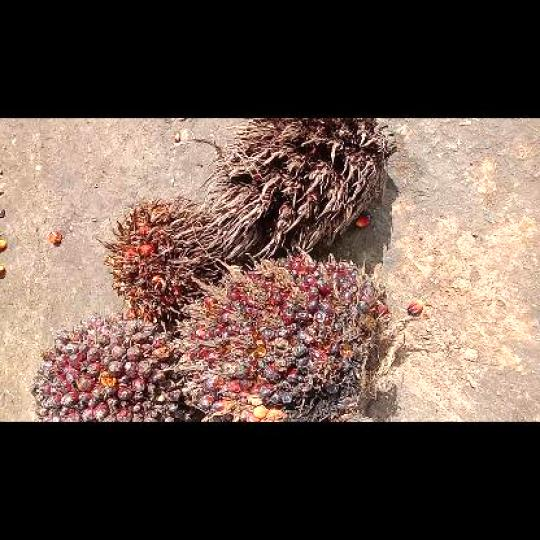kurang masak: (29, 310, 182, 420)
masak: (174, 247, 423, 420)
terlalu masak: (95, 195, 224, 324)
